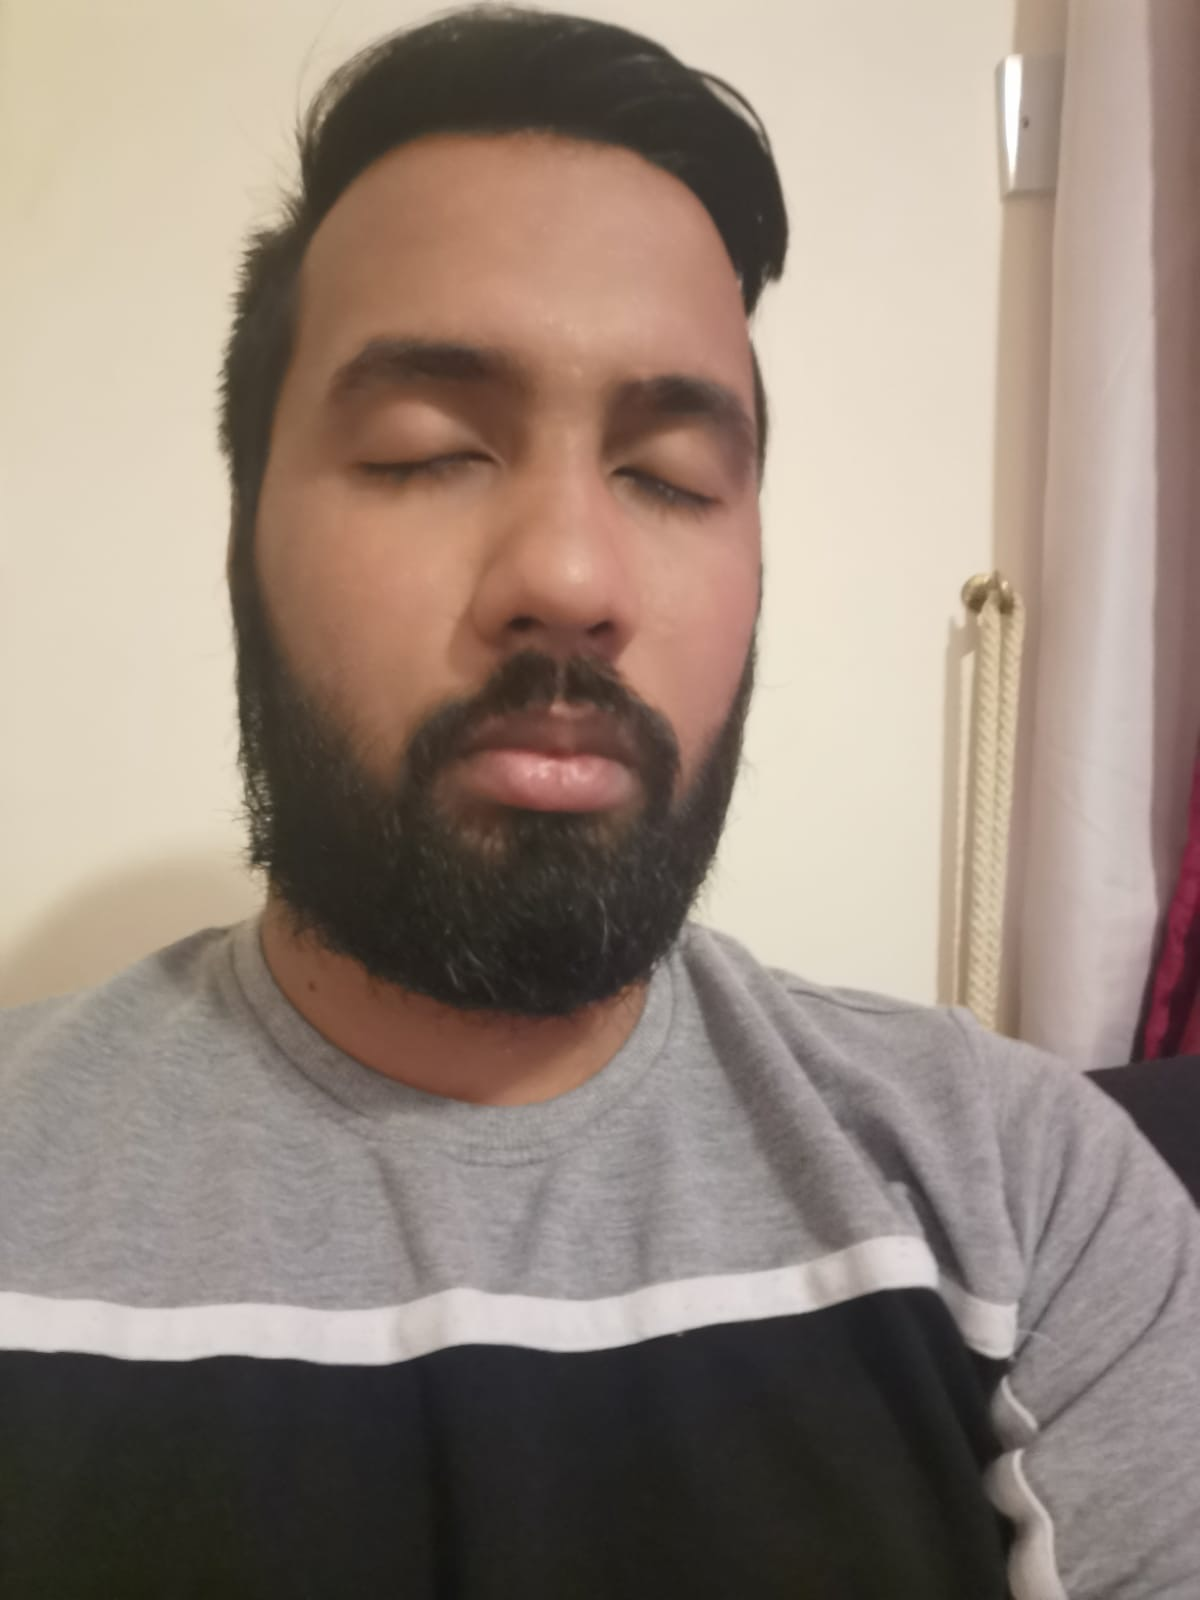Sleeping: (306, 370, 771, 527)
